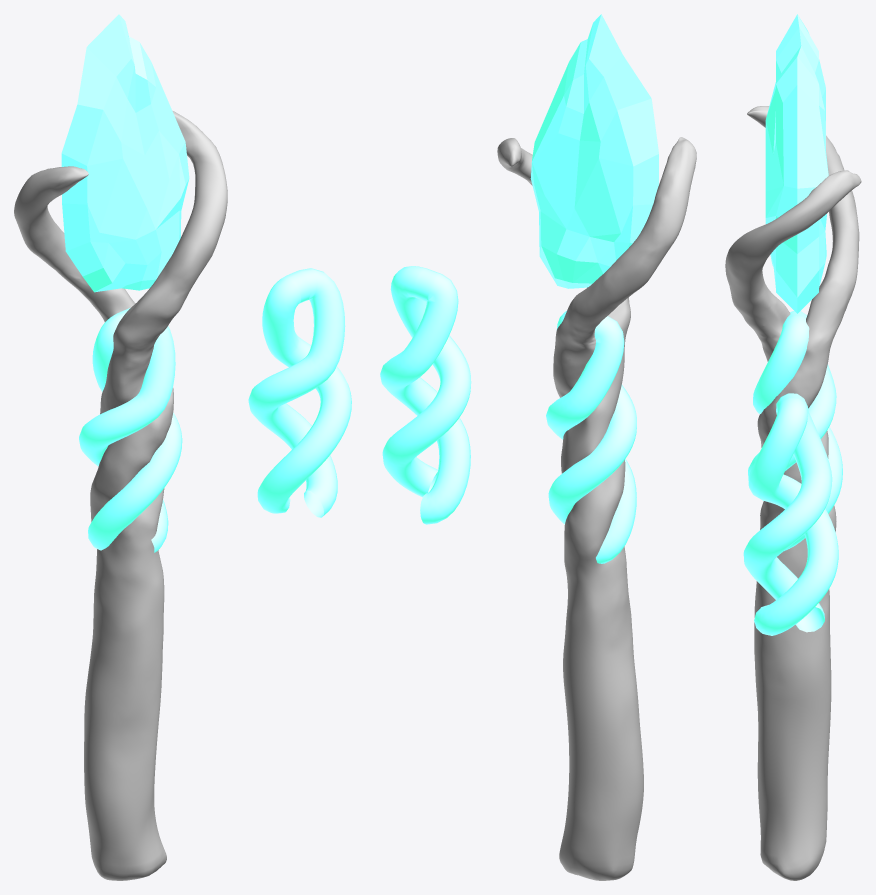
Rendered from magic-wand.fbx.
3 renders of one model, left to right at view 1: azimuth 30°, elevation 25°; view 2: azimuth 150°, elevation 25°; view 3: azimuth 270°, elevation 25°, orthographic.
Visible parts, largest first — view 1: Plane, Plane.002, BezierCurve.001, BezierCurve; view 2: Plane, Plane.002, BezierCurve.001, BezierCurve; view 3: Plane, BezierCurve.001, Plane.002, BezierCurve.
Part boxes in pixels (x1=…): Plane: x1=14, y1=111, x2=227, y2=880; Plane.002: x1=61, y1=14, x2=189, y2=292; BezierCurve.001: x1=248, y1=268, x2=351, y2=517; BezierCurve: x1=79, y1=308, x2=182, y2=552; Plane: x1=497, y1=137, x2=696, y2=880; Plane.002: x1=530, y1=14, x2=658, y2=288; BezierCurve.001: x1=380, y1=266, x2=471, y2=524; BezierCurve: x1=546, y1=311, x2=636, y2=563; Plane: x1=725, y1=106, x2=861, y2=880; BezierCurve.001: x1=743, y1=393, x2=838, y2=635; Plane.002: x1=765, y1=14, x2=828, y2=313; BezierCurve: x1=748, y1=311, x2=842, y2=550.
Bounding box in the file's own units: 182 × 483 × 69.73.
